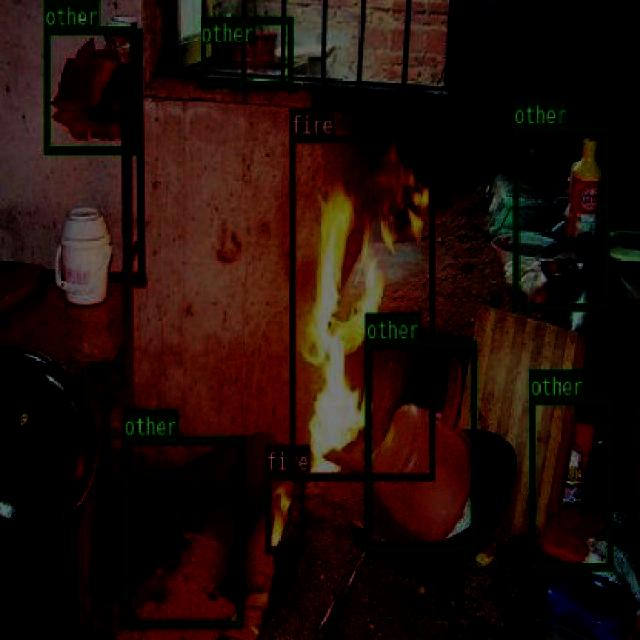fire: (289, 133, 434, 479), (266, 470, 302, 552)
